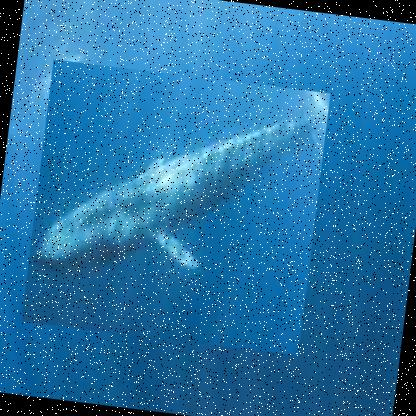blue_whale: (21, 59, 331, 356)
